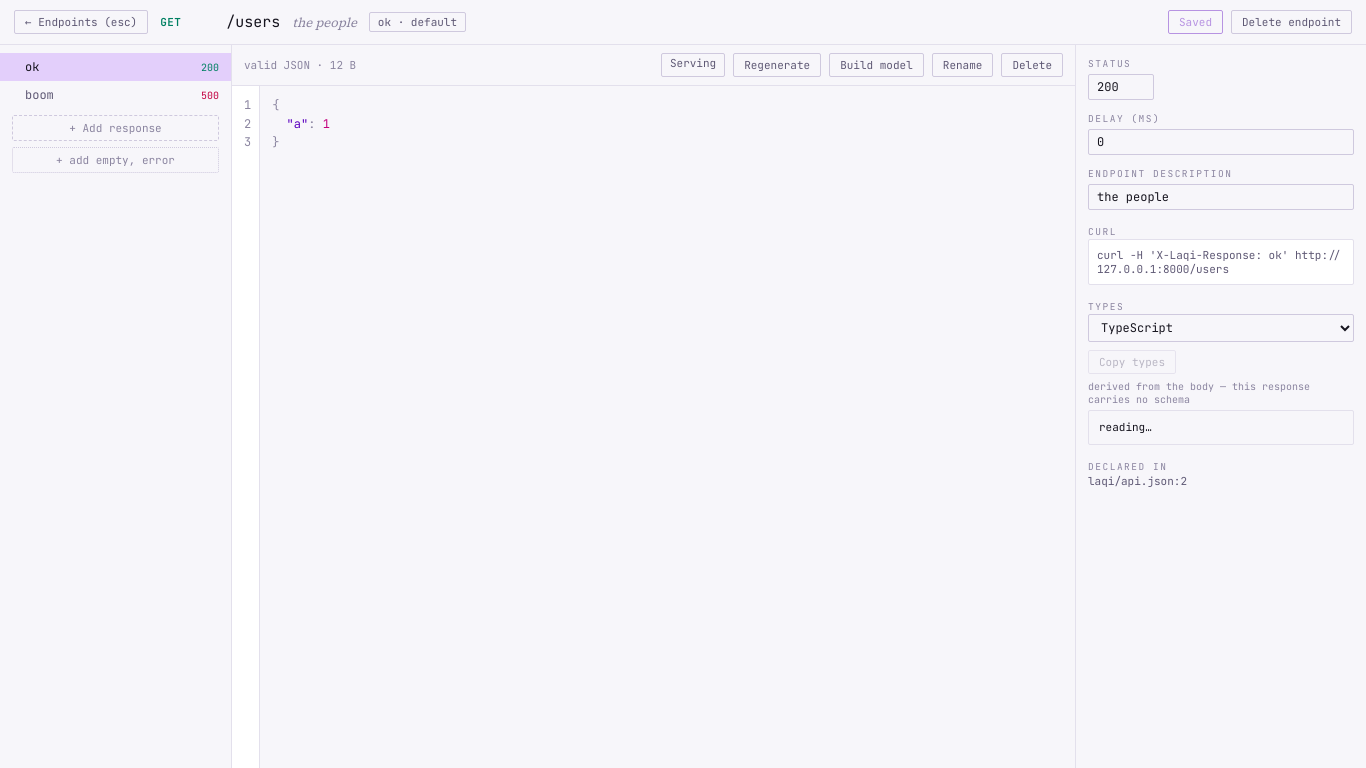
Test case: renaming a response (no window.prompt) › renames the response and selects it on confirm
Click the button "Rename" at x=963, y=65, box [932, 53, 993, 77]
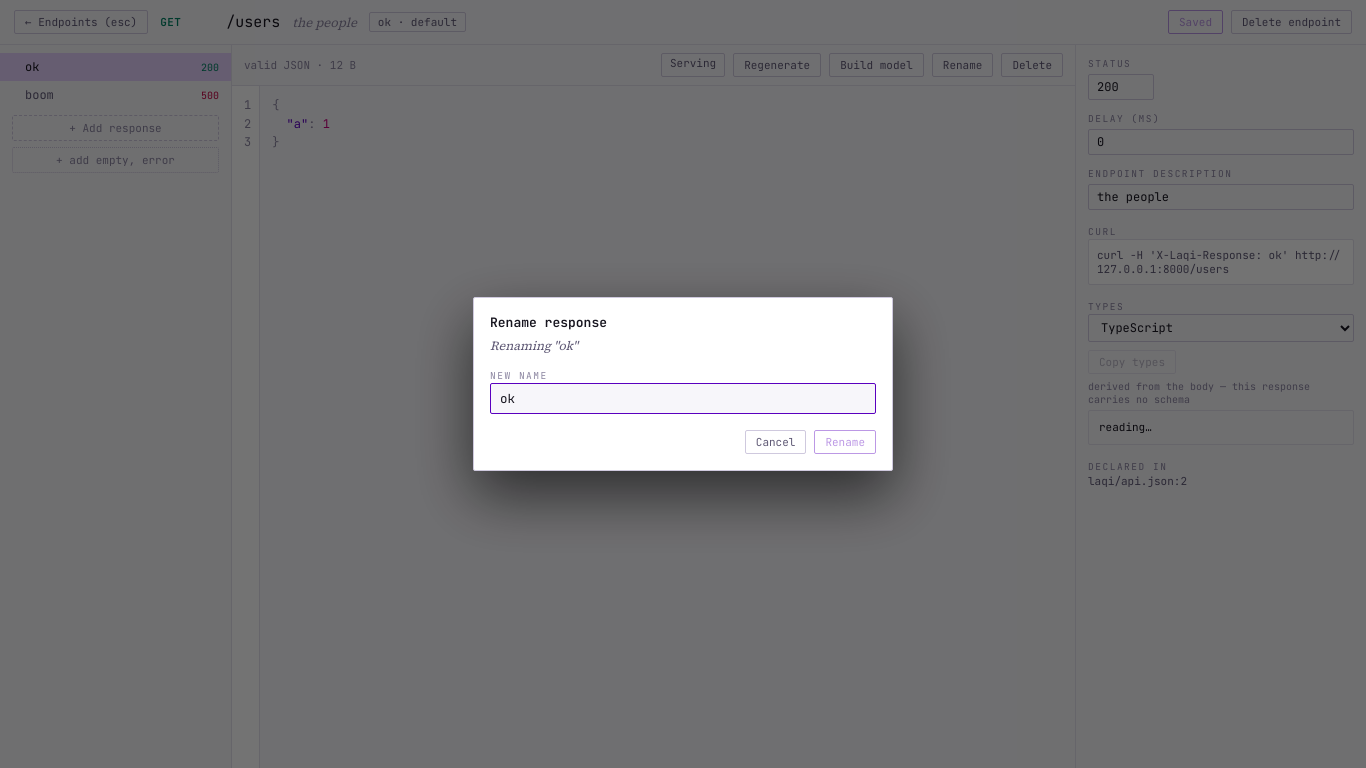
Replace the text in the field labelled "new name" with "success" at x=683, y=398, box [490, 383, 876, 414]
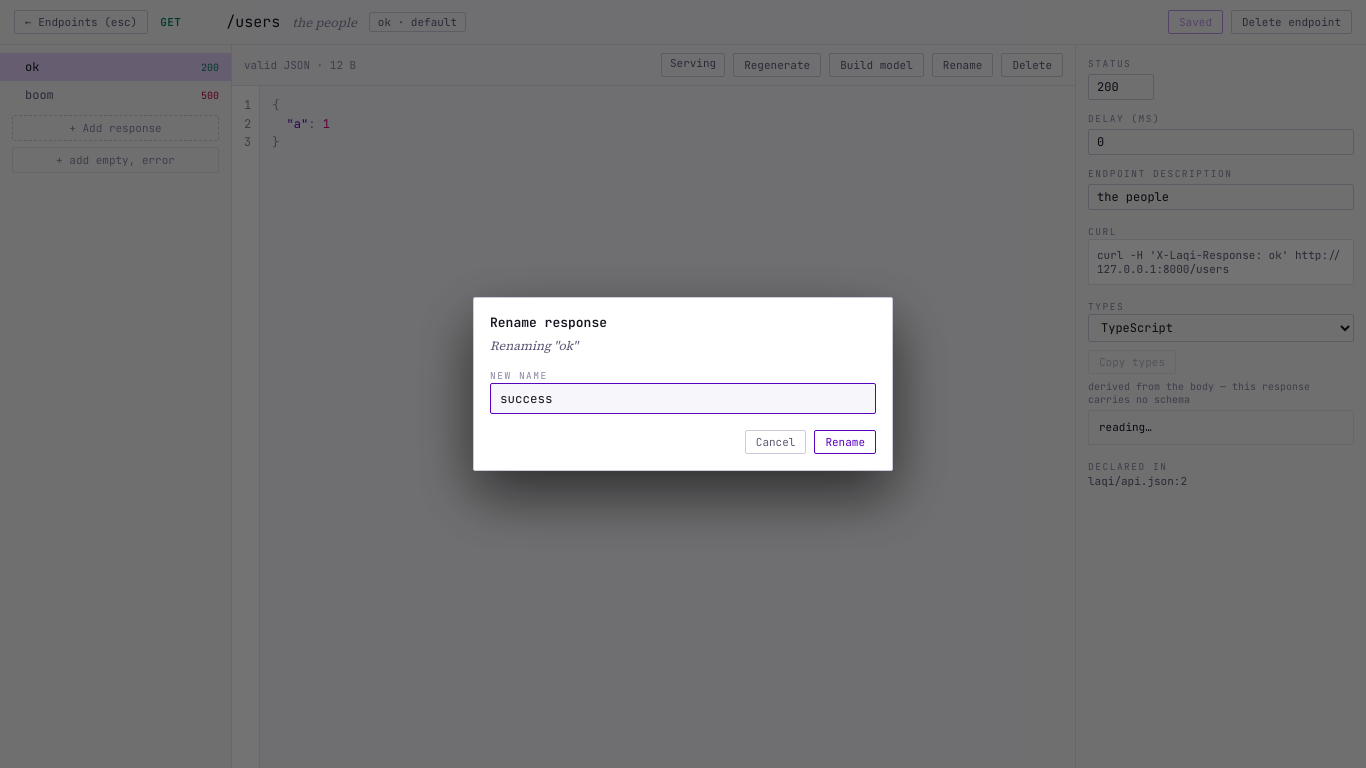
Click the button "Rename" at x=845, y=442, box [814, 430, 876, 454]
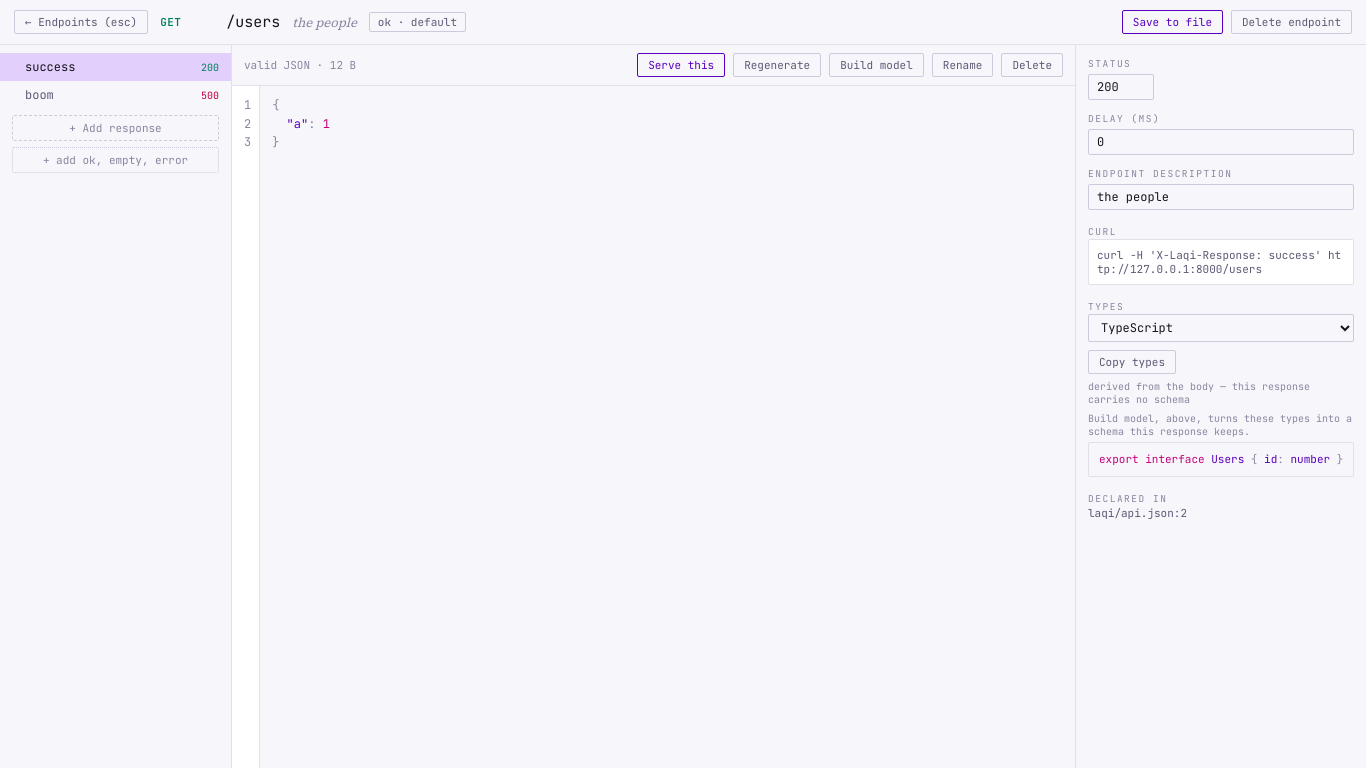
Result: the label labelled "new name" is gone
Result: the text "success" is shown at [25, 59, 75, 75]
